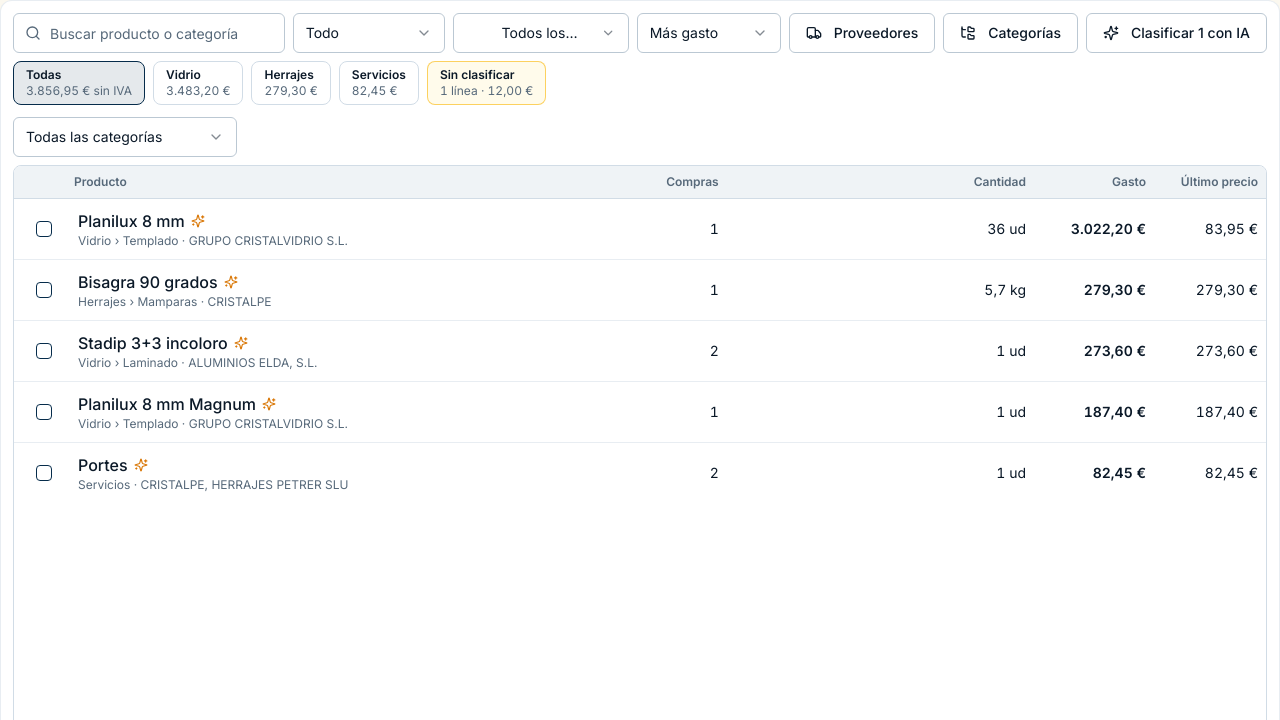
Scenario: TabProductos › seleccionar dos y fusionar: queda el de más gasto
The image size is (1280, 720).
Later steps or results of the test are not shown.
Expected: the text "Planilux 8 mm" is shown, [78,209,185,233]
Click the checkbox named "Seleccionar Planilux 8 mm Magnum" at (44, 412), box [36,404,52,420]
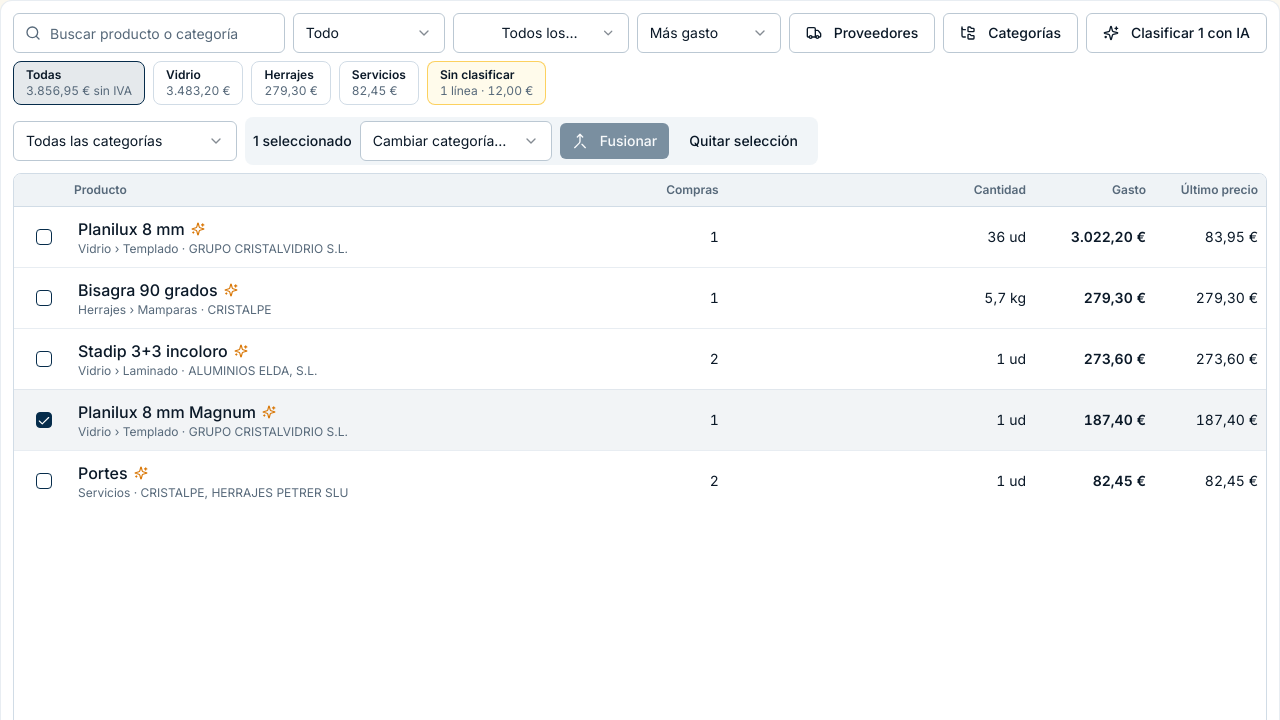
Click the checkbox named "Seleccionar Planilux 8 mm" at (44, 237), box [36,229,52,245]
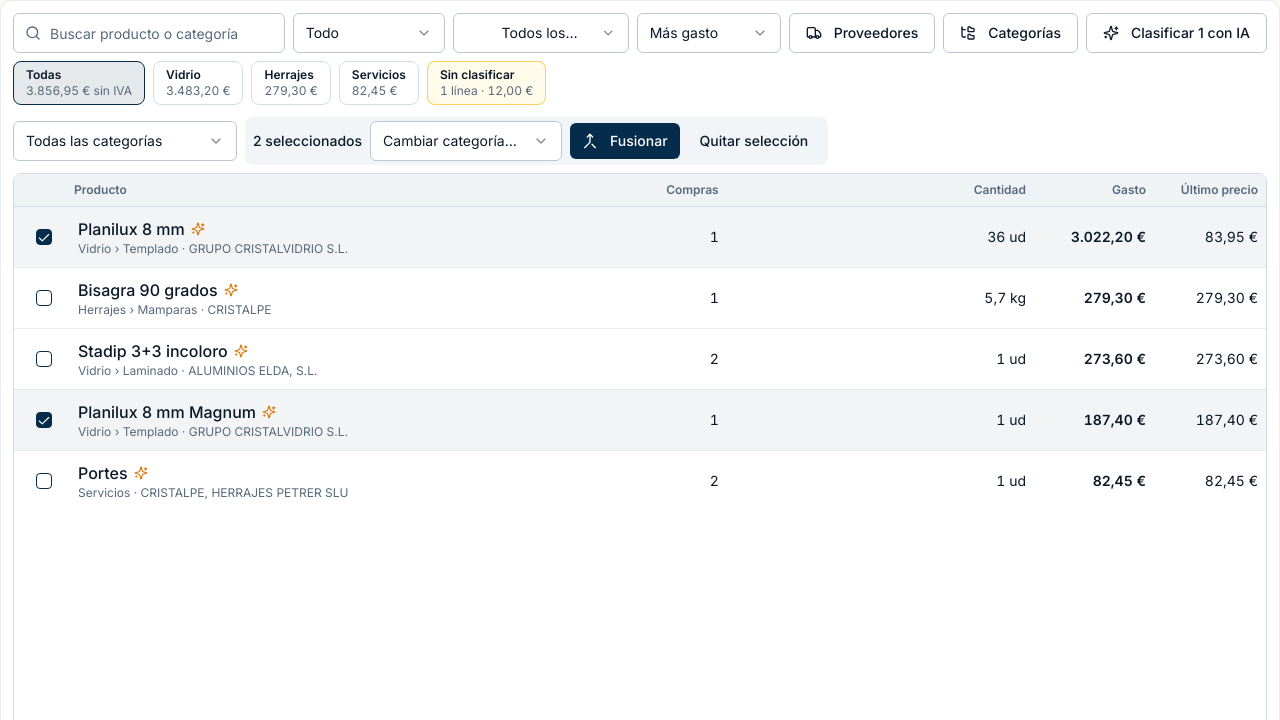
Click the button "Fusionar" at (625, 141), box [570,123,680,159]
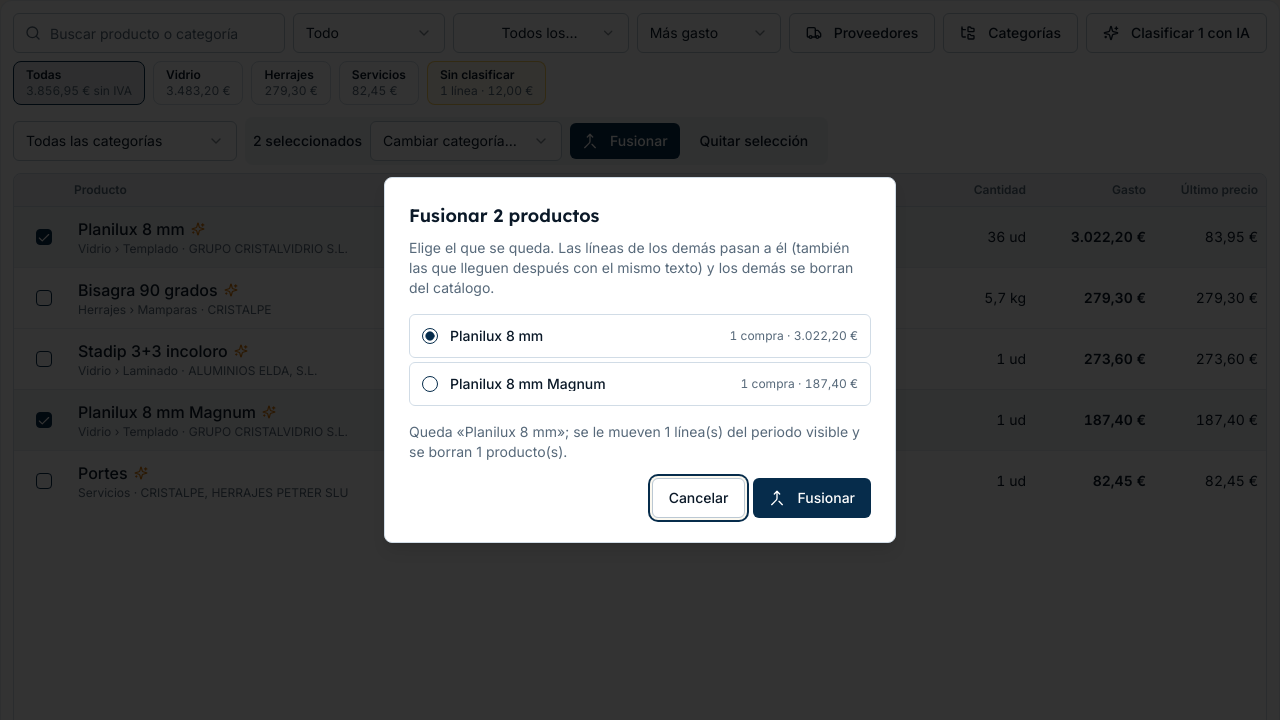
Result: the text "Queda «Planilux 8 mm»" is shown at [409,422,871,462]
